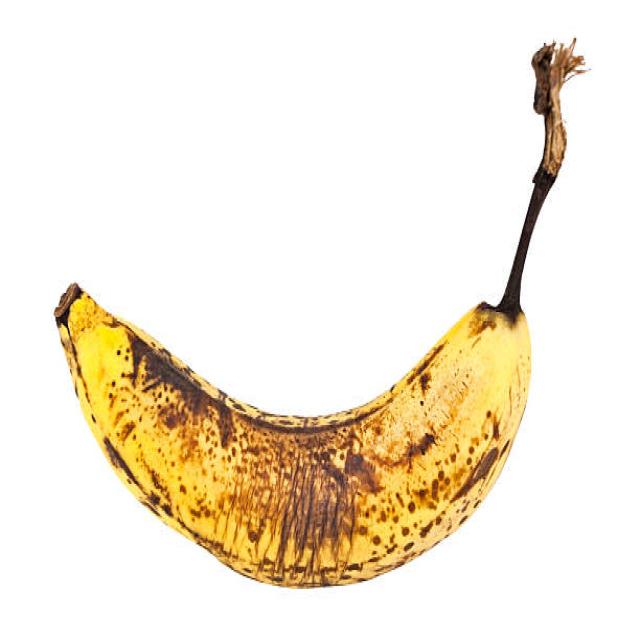overripe: (52, 177, 545, 598)
